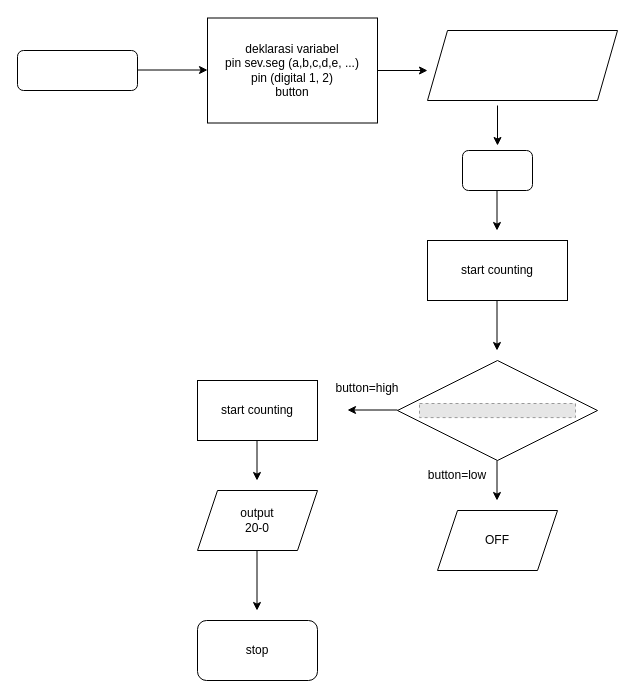
The diagram is 635 pixels wide and 698 high, and some of its shapes have lost their labels. Grey dashed boxes stand in for pictures. Each missing label, with the centre of its shape:
mulai: the point at 77,70
PinMode input=dig1,dig2 PinMode input=button PinMode output,(a,b,c,d ...): the point at 522,65
start loop: the point at 497,170
